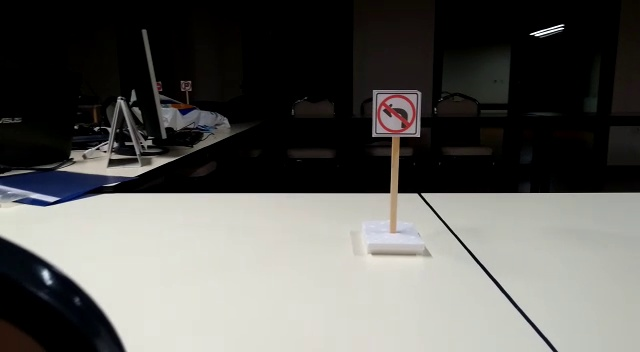sola_donulmez: (375, 87, 422, 133)
